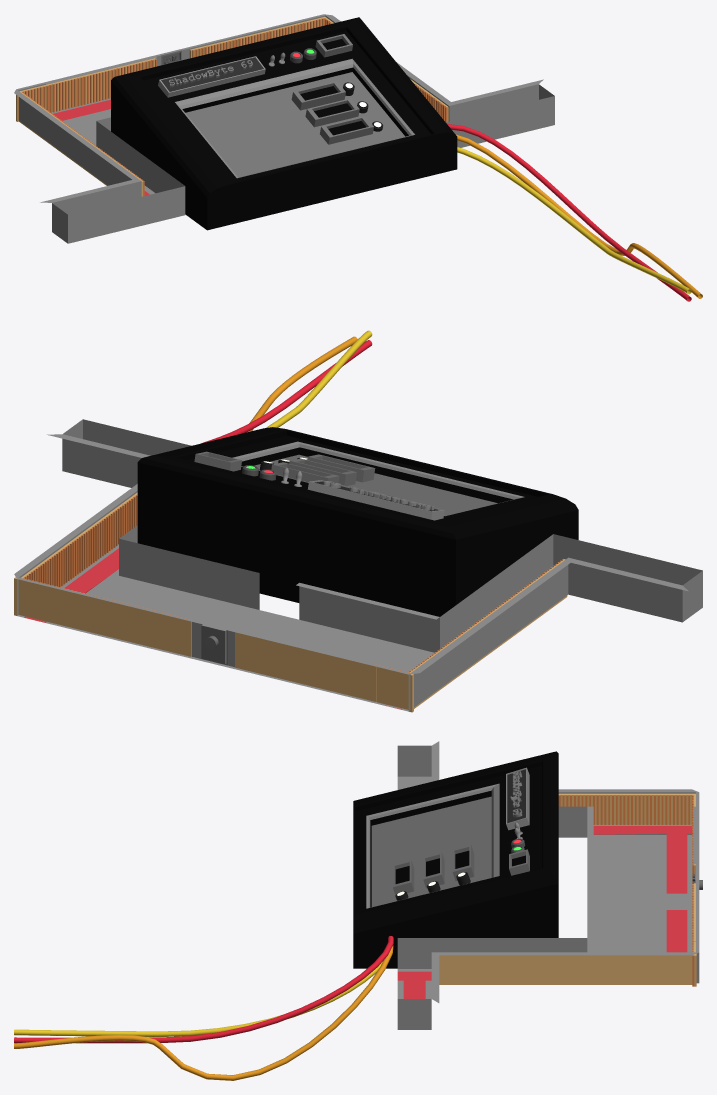
Rendered from Module.fbx.
3 views of the same model, one above another, from view 1: azimuth 30°, elevation 25°; view 2: azimuth 150°, elevation 25°; view 3: azimuth 270°, elevation 25° (orthographic). The views are drawn at different scales.
Visible parts, largest first — view 1: Module, haLLWAY; view 2: haLLWAY, Module; view 3: haLLWAY, Module.
Part boxes in pixels (x1=…): Module: x1=115, y1=17, x2=457, y2=230; haLLWAY: x1=14, y1=14, x2=702, y2=301; haLLWAY: x1=14, y1=330, x2=702, y2=712; Module: x1=137, y1=427, x2=574, y2=616; haLLWAY: x1=14, y1=741, x2=702, y2=1080; Module: x1=353, y1=751, x2=558, y2=968.
Size of the model in its own units: 3630 by 996 by 4025.
